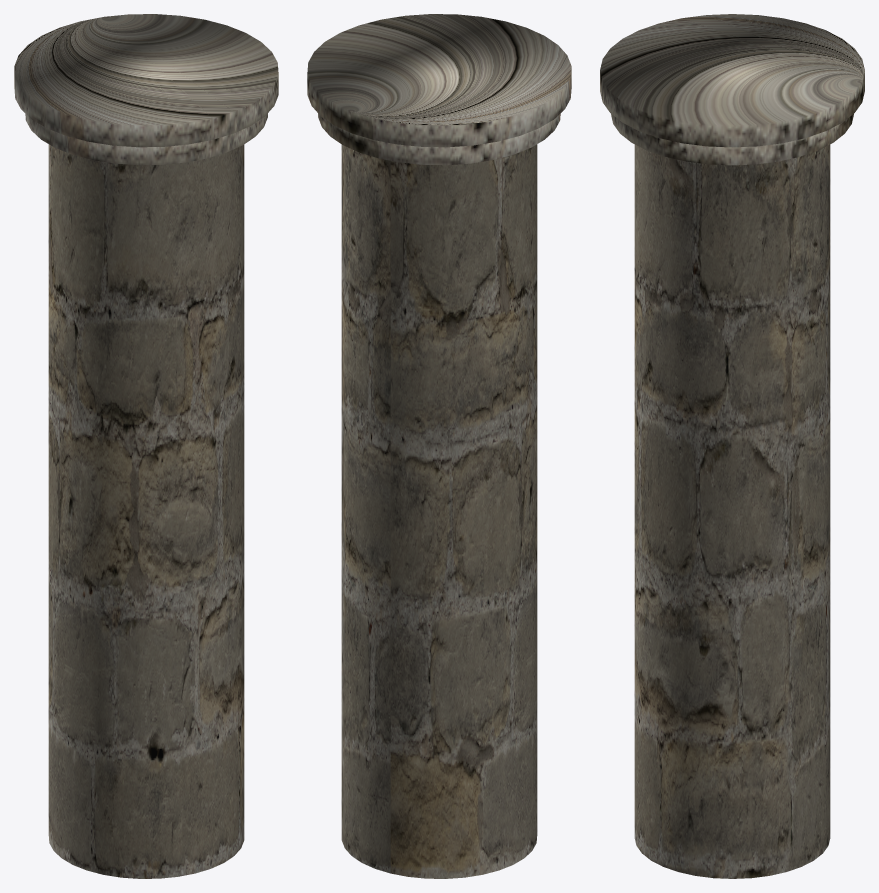
The model's file is column.fbx.
3 views of the same model, side by side, from view 1: azimuth 30°, elevation 25°; view 2: azimuth 150°, elevation 25°; view 3: azimuth 270°, elevation 25° (orthographic).
Visible parts, largest first — view 1: Cylinder; view 2: Cylinder; view 3: Cylinder.
Boxes of the visible parts, bbox=[...] form: Cylinder: bbox=[14, 14, 278, 878]; Cylinder: bbox=[307, 14, 571, 878]; Cylinder: bbox=[600, 14, 864, 878].
Size of the model in its own units: 23.05 by 73.74 by 23.05.
